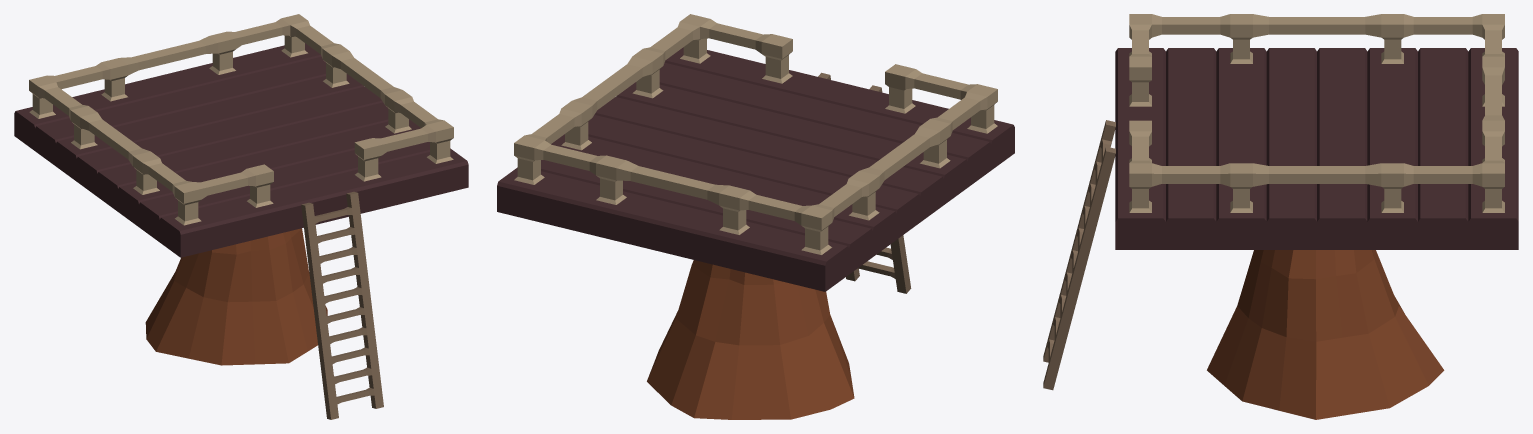
The model's file is Tree_house_trunk.glb.
The picture shows the model from 3 angles, left to right: view 1: azimuth 30°, elevation 25°; view 2: azimuth 150°, elevation 25°; view 3: azimuth 270°, elevation 25°; orthographic projection. The views are drawn at different scales.
Parts seen in each view (by area): view 1: Tree house trunk _Brown _0, Tree house trunk _Brown 3_0, Tree house trunk _Brown 2_0, Tree house trunk _Brown 4_0; view 2: Tree house trunk _Brown _0, Tree house trunk _Brown 3_0, Tree house trunk _Brown 2_0, Tree house trunk _Brown 4_0; view 3: Tree house trunk _Brown _0, Tree house trunk _Brown 2_0, Tree house trunk _Brown 3_0, Tree house trunk _Brown 4_0.
Part boxes in pixels (x1=…): Tree house trunk _Brown _0: x1=14, y1=43, x2=468, y2=257; Tree house trunk _Brown 3_0: x1=29, y1=14, x2=453, y2=225; Tree house trunk _Brown 2_0: x1=145, y1=228, x2=327, y2=365; Tree house trunk _Brown 4_0: x1=301, y1=191, x2=383, y2=419; Tree house trunk _Brown _0: x1=497, y1=47, x2=1014, y2=291; Tree house trunk _Brown 3_0: x1=514, y1=14, x2=997, y2=254; Tree house trunk _Brown 2_0: x1=647, y1=260, x2=854, y2=419; Tree house trunk _Brown 4_0: x1=818, y1=72, x2=911, y2=293; Tree house trunk _Brown _0: x1=1115, y1=48, x2=1518, y2=249; Tree house trunk _Brown 2_0: x1=1207, y1=250, x2=1444, y2=419; Tree house trunk _Brown 3_0: x1=1129, y1=14, x2=1504, y2=212; Tree house trunk _Brown 4_0: x1=1043, y1=120, x2=1115, y2=390.
Bounding box in the file's own units: 4.52 × 3.45 × 5.33.
